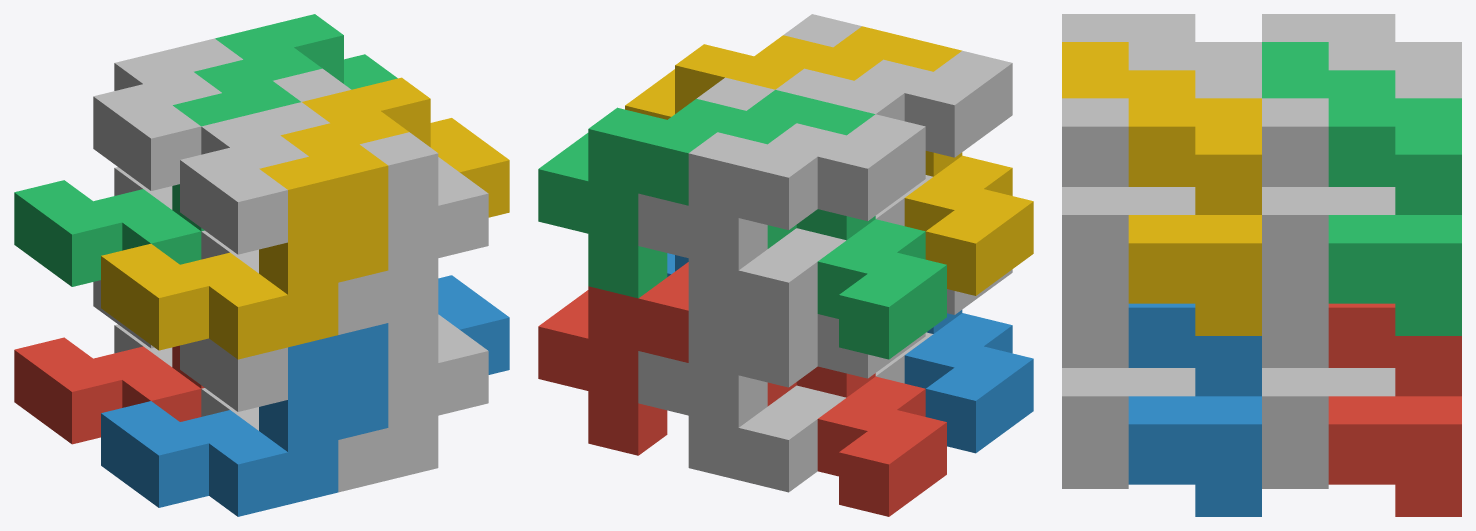
File: tiling.obj
3 views of the same model, side by side, from view 1: azimuth 30°, elevation 25°; view 2: azimuth 150°, elevation 25°; view 3: azimuth 270°, elevation 25° (orthographic). The views are drawn at different scales.
Parts seen in each view (by area): view 1: copy_1_domain_4, copy_1_domain_2, copy_1_domain_8, copy_1_domain_6, copy_2_domain_8, copy_1_domain_3, copy_2_domain_4, copy_2_domain_3, copy_1_domain_1, copy_2_domain_7, copy_2_domain_6, copy_2_domain_2 (+2 smaller); view 2: copy_2_domain_3, copy_2_domain_7, copy_2_domain_1, copy_2_domain_5, copy_1_domain_3, copy_1_domain_1, copy_1_domain_4, copy_2_domain_4, copy_1_domain_2, copy_2_domain_8, copy_1_domain_7, copy_1_domain_5 (+3 smaller); view 3: copy_2_domain_7, copy_2_domain_8, copy_2_domain_5, copy_2_domain_6, copy_1_domain_7, copy_1_domain_8, copy_1_domain_5, copy_1_domain_6, copy_2_domain_3, copy_2_domain_4, copy_1_domain_3, copy_1_domain_4.
Part boxes in pixels (x1=…): copy_1_domain_4: x1=101, y1=156, x2=388, y2=359; copy_1_domain_2: x1=101, y1=335, x2=388, y2=516; copy_1_domain_8: x1=201, y1=132, x2=488, y2=334; copy_1_domain_6: x1=201, y1=311, x2=488, y2=492; copy_2_domain_8: x1=280, y1=77, x2=509, y2=229; copy_1_domain_3: x1=14, y1=93, x2=250, y2=286; copy_2_domain_4: x1=180, y1=102, x2=329, y2=254; copy_2_domain_3: x1=93, y1=38, x2=242, y2=190; copy_1_domain_1: x1=14, y1=337, x2=204, y2=444; copy_2_domain_7: x1=194, y1=14, x2=397, y2=113; copy_2_domain_6: x1=338, y1=275, x2=509, y2=387; copy_2_domain_2: x1=180, y1=338, x2=287, y2=411; copy_2_domain_3: x1=638, y1=114, x2=925, y2=322; copy_2_domain_7: x1=538, y1=90, x2=824, y2=298; copy_2_domain_1: x1=638, y1=311, x2=925, y2=480; copy_2_domain_5: x1=538, y1=262, x2=688, y2=455; copy_1_domain_3: x1=767, y1=102, x2=946, y2=359; copy_1_domain_1: x1=767, y1=366, x2=946, y2=516; copy_1_domain_4: x1=884, y1=38, x2=1033, y2=295; copy_2_domain_4: x1=775, y1=50, x2=1012, y2=157; copy_1_domain_2: x1=904, y1=310, x2=1033, y2=453; copy_2_domain_8: x1=625, y1=26, x2=911, y2=119; copy_1_domain_7: x1=696, y1=77, x2=846, y2=334; copy_1_domain_5: x1=738, y1=385, x2=846, y2=492; copy_2_domain_7: x1=1262, y1=70, x2=1461, y2=335; copy_2_domain_8: x1=1062, y1=70, x2=1261, y2=335; copy_2_domain_5: x1=1328, y1=303, x2=1461, y2=516; copy_2_domain_6: x1=1128, y1=303, x2=1261, y2=516; copy_1_domain_7: x1=1262, y1=98, x2=1395, y2=307; copy_1_domain_8: x1=1062, y1=98, x2=1195, y2=307; copy_1_domain_5: x1=1262, y1=307, x2=1395, y2=488; copy_1_domain_6: x1=1062, y1=307, x2=1195, y2=488; copy_2_domain_3: x1=1262, y1=14, x2=1461, y2=98; copy_2_domain_4: x1=1062, y1=14, x2=1261, y2=98; copy_1_domain_3: x1=1262, y1=42, x2=1328, y2=70; copy_1_domain_4: x1=1062, y1=42, x2=1128, y2=70.
Size of the model in its own units: 7 by 6 by 6.
